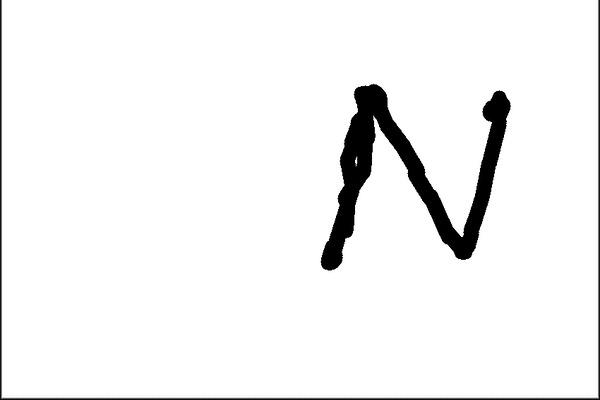N: (316, 78, 514, 270)
